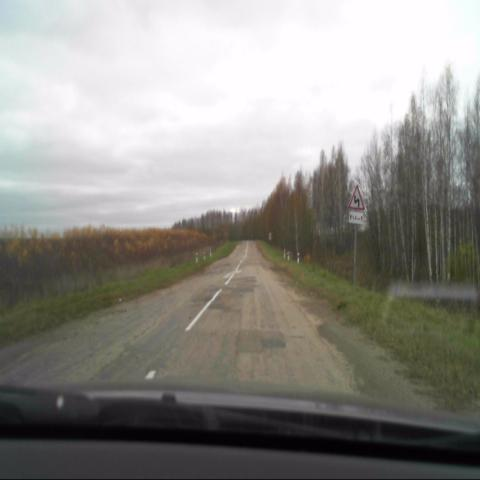1_12_2: (349, 184, 364, 208)
